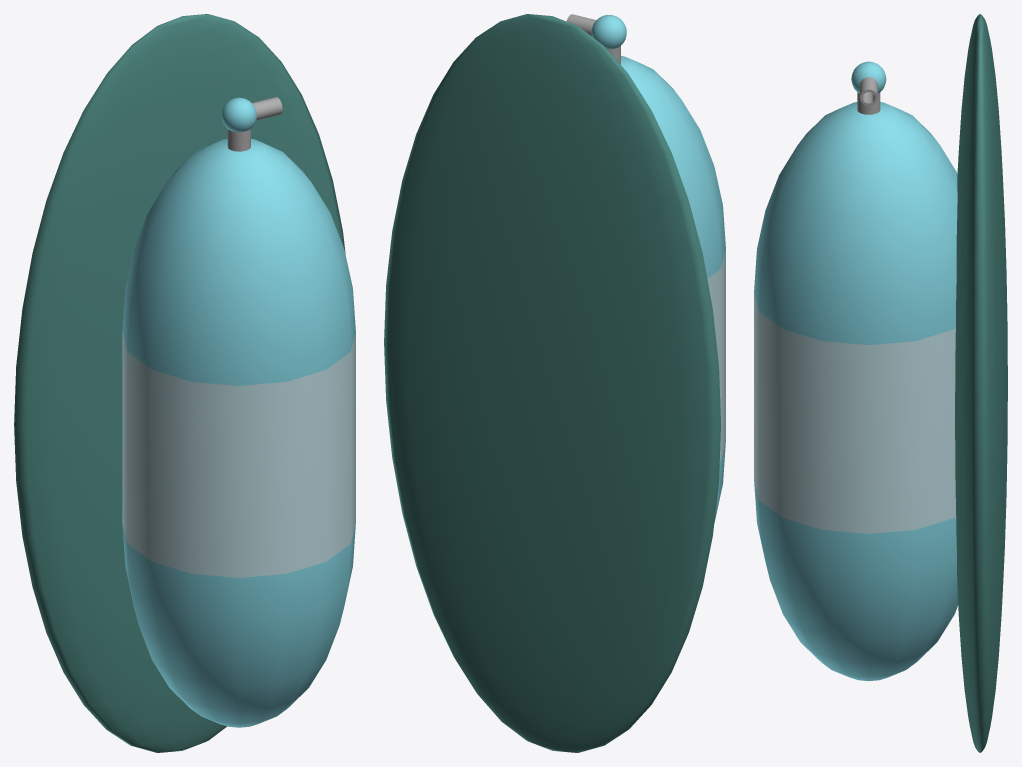
Rendered from Oxygen Refuel Final.fbx.
3 views of the same model, side by side, from view 1: azimuth 30°, elevation 25°; view 2: azimuth 150°, elevation 25°; view 3: azimuth 270°, elevation 25° (orthographic).
Visible parts, largest first — view 1: pCylinder1, pSphere1, pSphere2; view 2: pSphere1, pCylinder1, pSphere2; view 3: pCylinder1, pSphere1, pSphere2, pCylinder5.
Part boxes in pixels (x1,y1,x2,y2): pCylinder1: [122, 138, 355, 727]; pSphere1: [14, 14, 345, 752]; pSphere2: [221, 97, 256, 132]; pSphere1: [384, 14, 720, 752]; pCylinder1: [620, 56, 725, 522]; pSphere2: [591, 15, 626, 49]; pCylinder1: [754, 102, 958, 681]; pSphere1: [955, 14, 1007, 752]; pSphere2: [851, 61, 886, 93]; pCylinder5: [859, 77, 877, 105].
Bounding box in the file's own units: 0.8453 × 1.76 × 0.5606.
